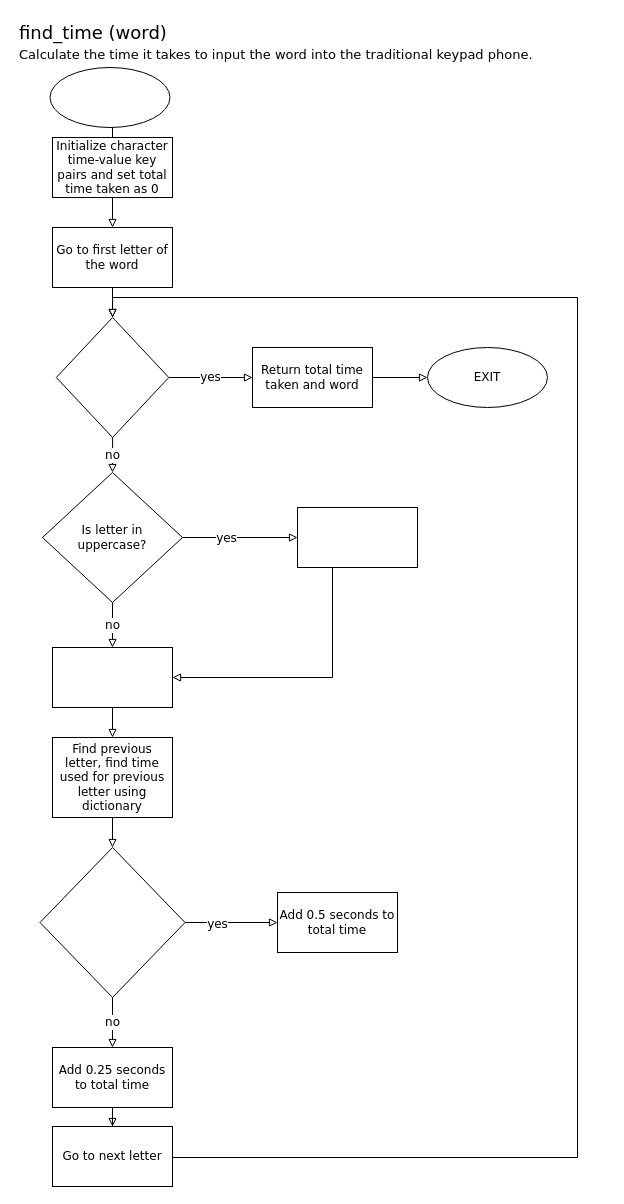
Some shapes in this 624 by 1204 pixel diagram are drawn without their labels. Each missing label, with the centre of its shape:
Add 2s to total time: [357,537]
Check if time for previous letter = time for current letter: [112,922]
Find time for letter using dictionary, add to total time: [112,677]
Have all letters been considered for the word?: [112,377]
START: [109,97]
